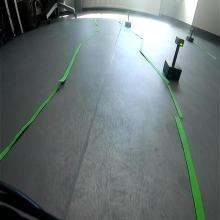green: (174, 35, 184, 46)
